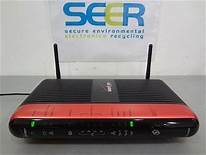Verizon Router: (1, 47, 201, 146)
